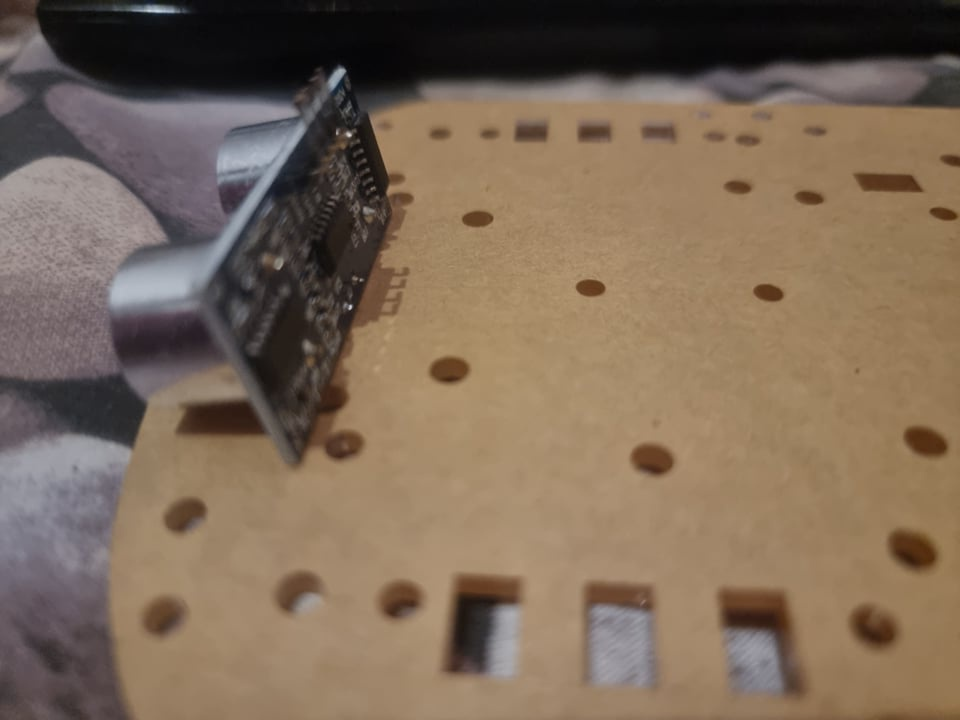SENSOR: (106, 66, 399, 468)
